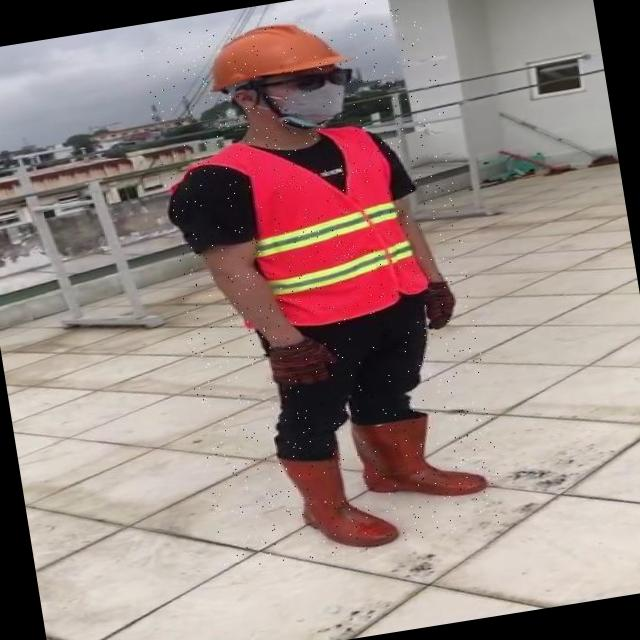hard_hat: (198, 12, 348, 96)
safety_vest: (224, 116, 430, 336)
vehicle: (138, 0, 509, 571)
work_boots: (280, 439, 406, 562), (347, 404, 489, 510)
